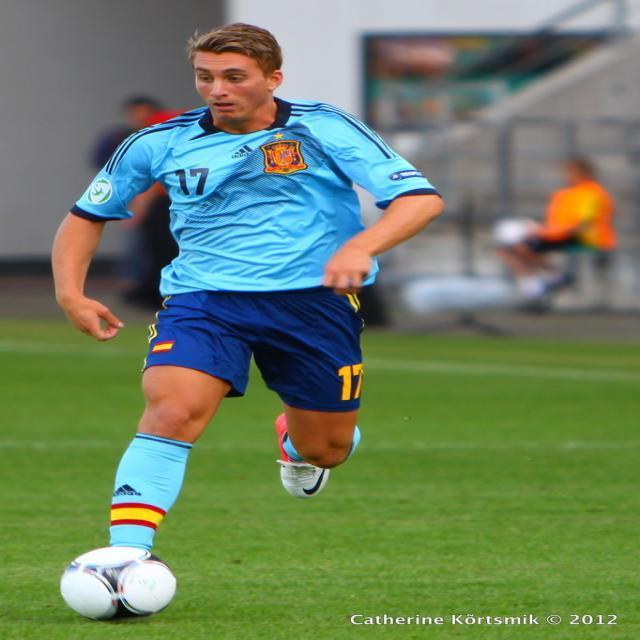football: (37, 543, 192, 619)
